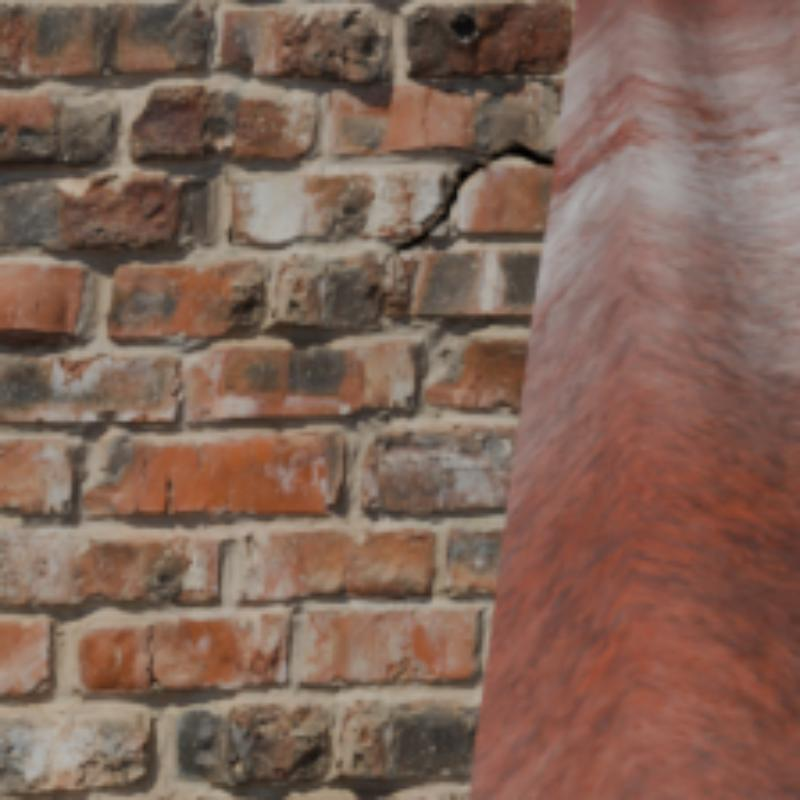pothole: (395, 141, 552, 251)
